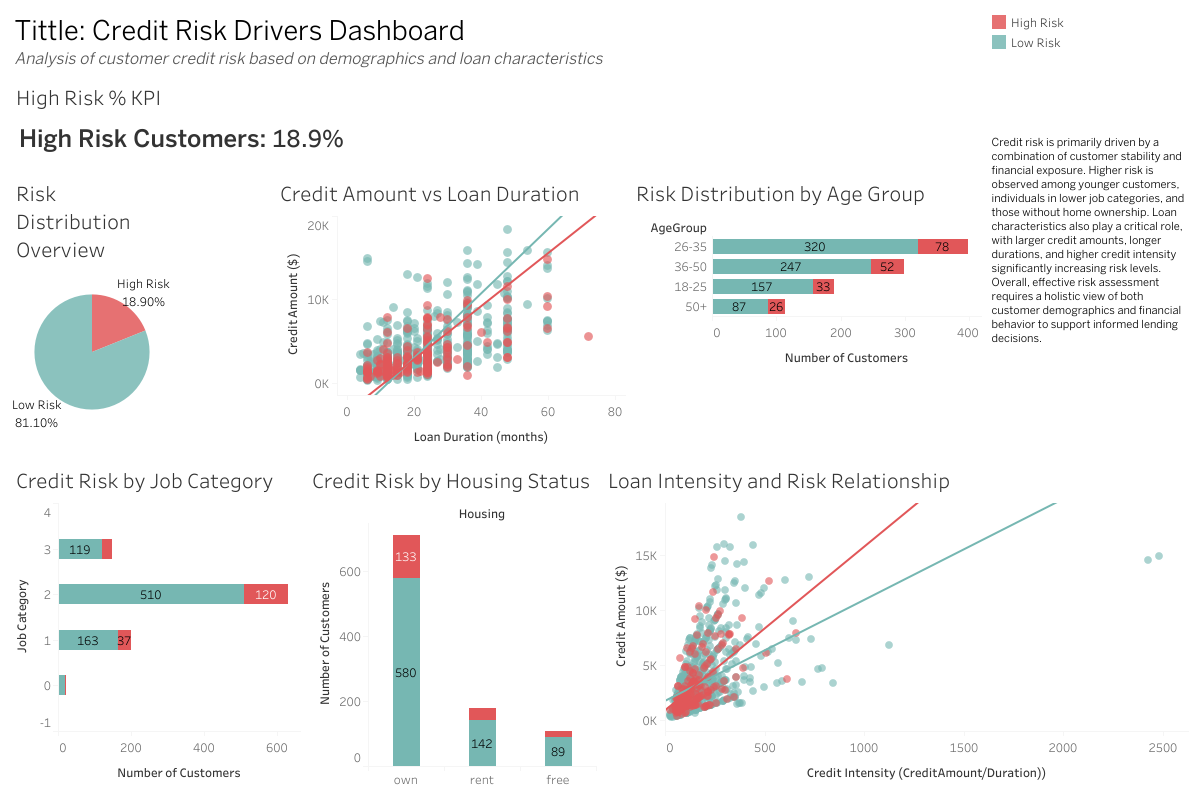

This screenshot's page, from the dashboard's own definition file:
{"tool":"tableau","page":{"name":"Dashboard 1 - Credit Risk Drivers","canvas":[1200,800],"ordinal":0},"visuals":[{"type":"text","box":[9,9,1182,79]},{"type":"worksheet","title":"% High-Risk Customers","mark":"Automatic","box":[8,88,234,77]},{"type":"legend","title":"Risk Distribution Overview","param":"[federated.05a5u440zrrwg51h6o1w401auvgt].[none:RiskLevel:nk]","box":[241,88,130,77]},{"type":"highlighter","title":"Risk Distribution Overview","param":"[federated.05a5u440zrrwg51h6o1w401auvgt].[none:RiskLevel:nk]","box":[370,88,130,77]},{"type":"filter","title":"Risk Distribution Overview","param":"[federated.05a5u440zrrwg51h6o1w401auvgt].[none:Calculation_0855198522077186:nk]","box":[499,88,130,77]},{"type":"filter","title":"Risk Distribution Overview","param":"[federated.05a5u440zrrwg51h6o1w401auvgt].[none:Sex:nk]","box":[628,88,130,77]},{"type":"filter","title":"Risk Distribution Overview","param":"[federated.05a5u440zrrwg51h6o1w401auvgt].[none:Housing:nk]","box":[757,88,130,77]},{"type":"legend","title":"Credit Amount vs Loan Duration","param":"[federated.05a5u440zrrwg51h6o1w401auvgt].[sum:Calculation_0855198522281987:qk]","box":[886,88,305,77]},{"type":"worksheet","title":"Risk Distribution Overview","mark":"Pie","box":[9,165,574,316]},{"type":"worksheet","title":"Credit Amount vs Loan Duration","mark":"Circle","rows":["CreditAmount"],"cols":["Duration"],"box":[583,165,608,316]},{"type":"worksheet","title":"Loan Intensity and Risk Relationship","mark":"Circle","rows":["Calculation_0855198522847239"],"cols":["Calculation_0957178239967232"],"box":[9,481,574,310]},{"type":"worksheet","title":"Credit Risk by Job Category","mark":"Bar","rows":["Job"],"cols":["CustomerID (german_credit_data(in) 1(in).csv)"],"box":[583,481,608,310]}]}

Visuals, with their boxes in screenshot pixels (x1, y1, x2, y2), scaled from the page's 1200x800 canvas onto the 1199x799 screenshot:
text: l=9, t=9, r=1190, b=88
"% High-Risk Customers" worksheet: l=8, t=88, r=242, b=165
"Risk Distribution Overview" legend: l=241, t=88, r=371, b=165
"Risk Distribution Overview" highlighter: l=370, t=88, r=500, b=165
"Risk Distribution Overview" filter: l=499, t=88, r=628, b=165
"Risk Distribution Overview" filter: l=627, t=88, r=757, b=165
"Risk Distribution Overview" filter: l=756, t=88, r=886, b=165
"Credit Amount vs Loan Duration" legend: l=885, t=88, r=1190, b=165
"Risk Distribution Overview" worksheet (Pie marks): l=9, t=165, r=583, b=480
"Credit Amount vs Loan Duration" worksheet (Circle marks): l=583, t=165, r=1190, b=480
"Loan Intensity and Risk Relationship" worksheet (Circle marks): l=9, t=480, r=583, b=790
"Credit Risk by Job Category" worksheet (Bar marks): l=583, t=480, r=1190, b=790
